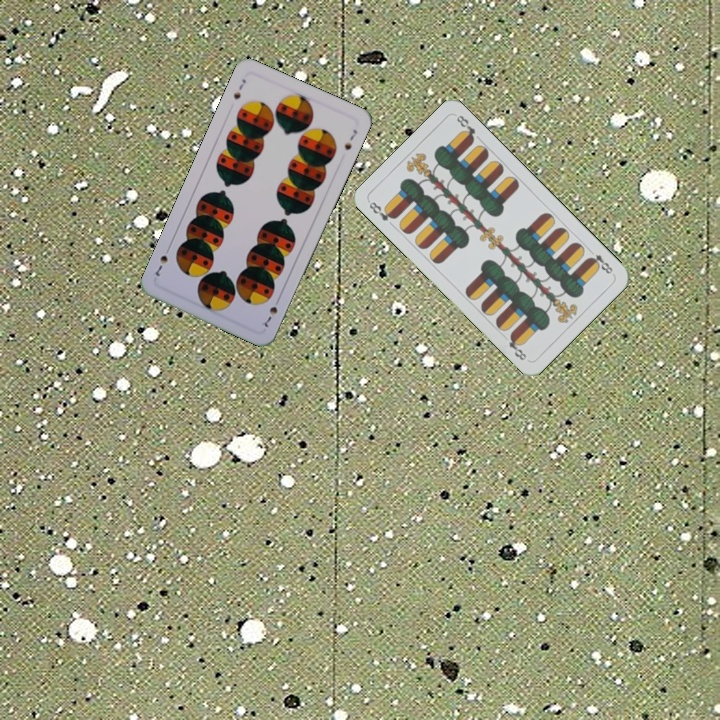E8: (584, 245, 615, 276), (365, 198, 399, 224)
S7: (260, 293, 283, 330), (229, 75, 249, 102)
